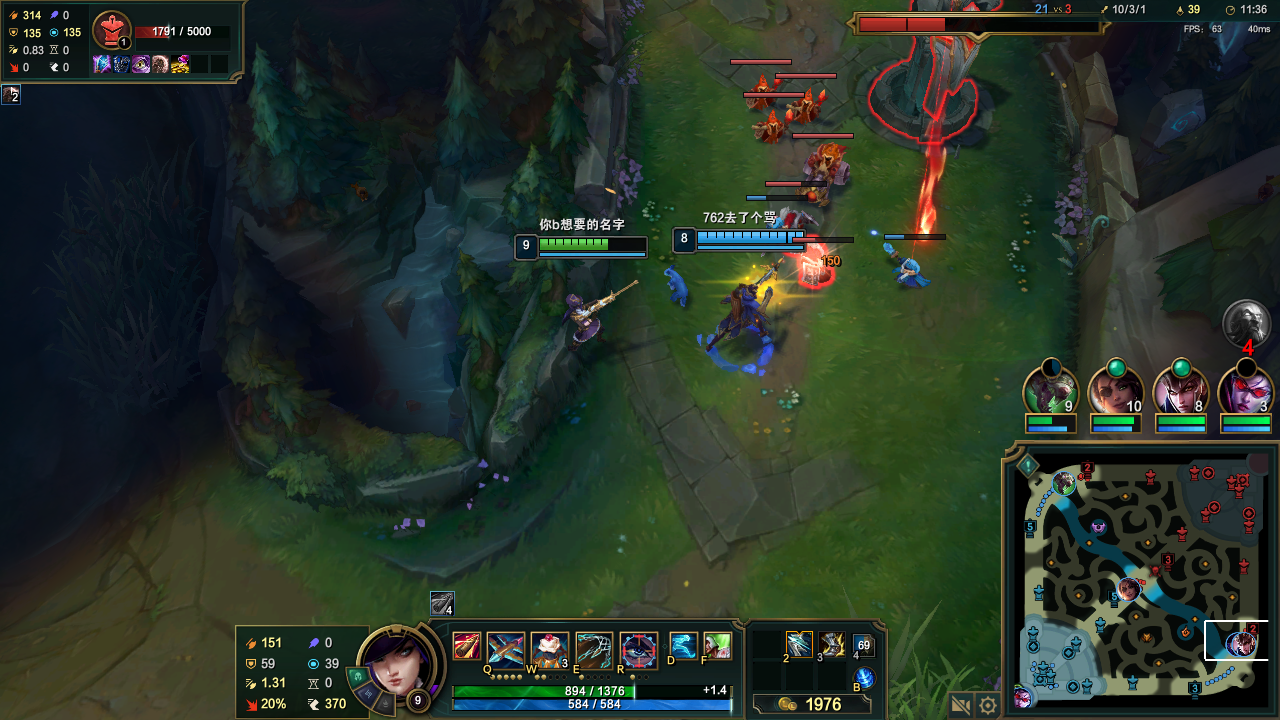DFFYT: (855, 14, 1005, 145)
DFXB: (799, 144, 848, 187), (794, 248, 832, 283), (788, 88, 824, 119), (757, 108, 787, 137), (788, 208, 813, 233), (748, 78, 774, 101)
KF: (787, 630, 807, 649)
WFXB: (894, 255, 923, 289), (761, 217, 787, 237)
